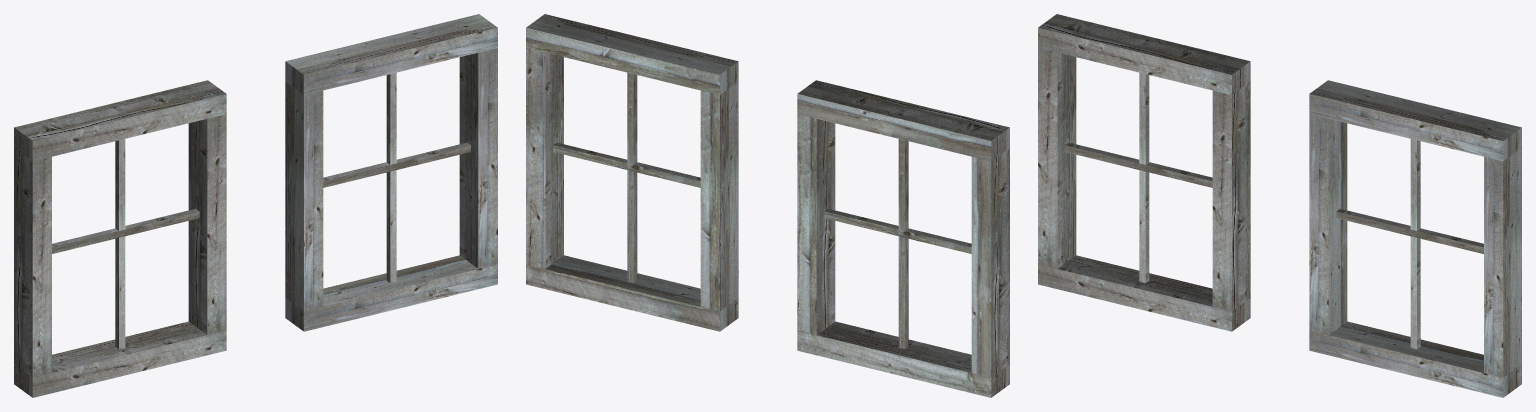
File: window2.fbx
The picture shows the model from 3 angles, left to right: view 1: azimuth 30°, elevation 25°; view 2: azimuth 150°, elevation 25°; view 3: azimuth 330°, elevation 25°; orthographic projection.
Visible parts, largest first — view 1: window2; view 2: window2; view 3: window2.
Part boxes in pixels (box(x1,y1,x2,y2)): window2: box(14, 14, 497, 397); window2: box(526, 14, 1009, 397); window2: box(1038, 14, 1521, 397).
Size of the model in its own units: 28800 by 15200 by 2001.
